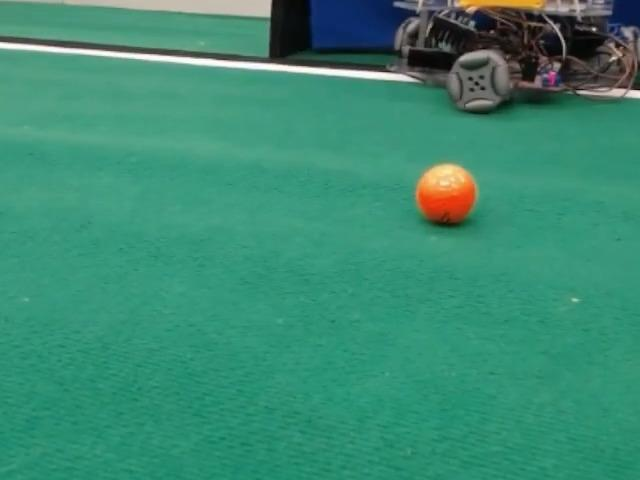Ball: (416, 163, 477, 224)
Robot: (388, 0, 639, 112)
